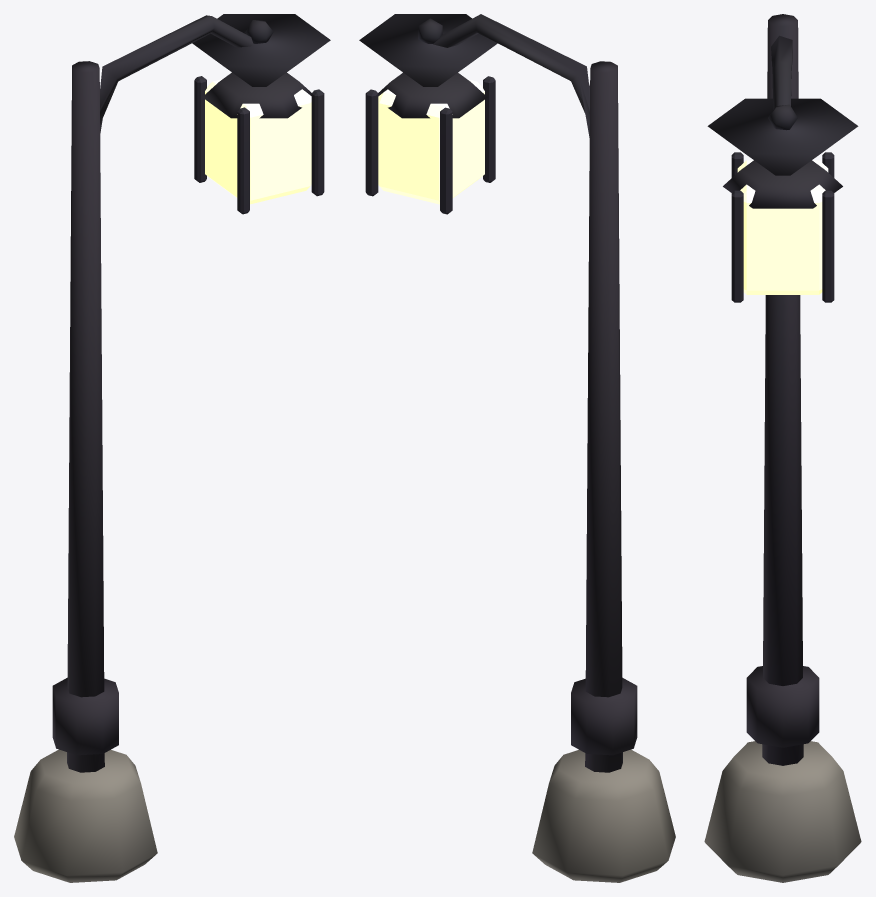
File: lamp_post.glb
The picture shows the model from 3 angles, left to right: view 1: azimuth 30°, elevation 25°; view 2: azimuth 150°, elevation 25°; view 3: azimuth 270°, elevation 25°; orthographic projection. The views are drawn at different scales.
Parts seen in each view (by area): view 1: lamp_post; view 2: lamp_post; view 3: lamp_post.
Boxes of the visible parts, <box> form: lamp_post: <box>14,14,330,882</box>; lamp_post: <box>359,14,675,882</box>; lamp_post: <box>704,14,861,882</box>.
Bounding box in the file's own units: 1.18 × 3.13 × 0.52.
